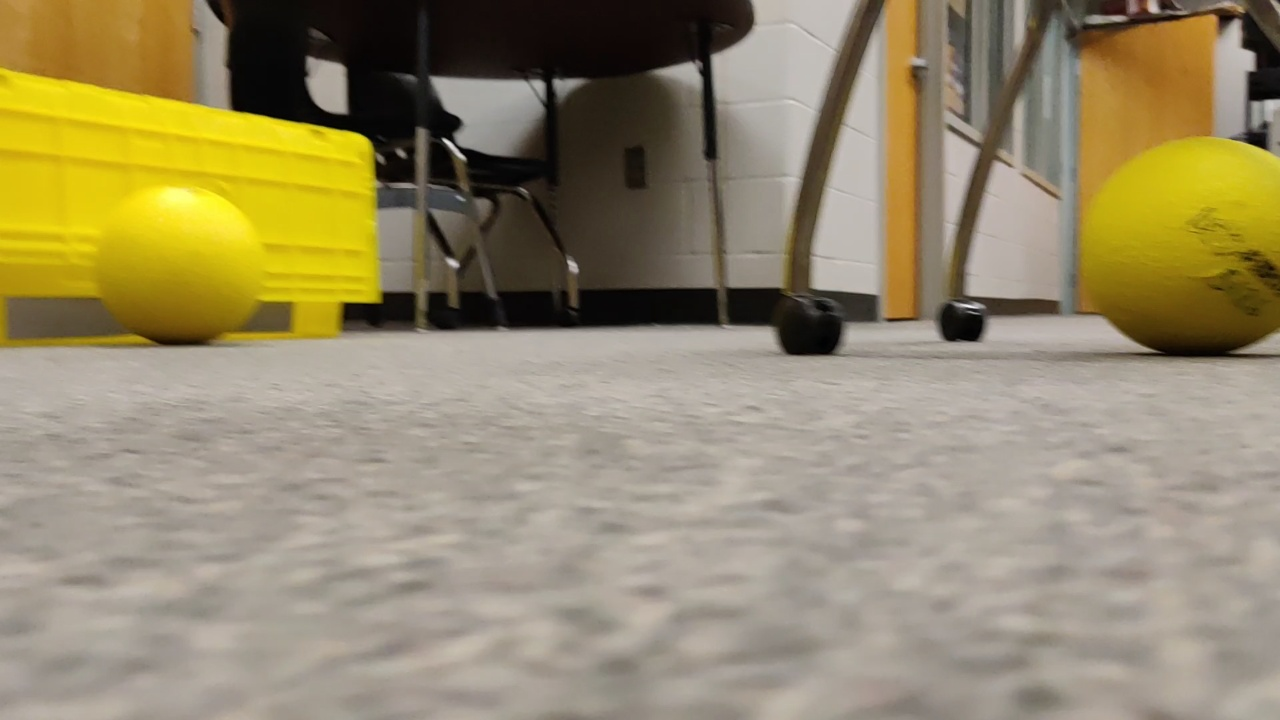Ball: (1068, 139, 1279, 354), (99, 186, 264, 343)
